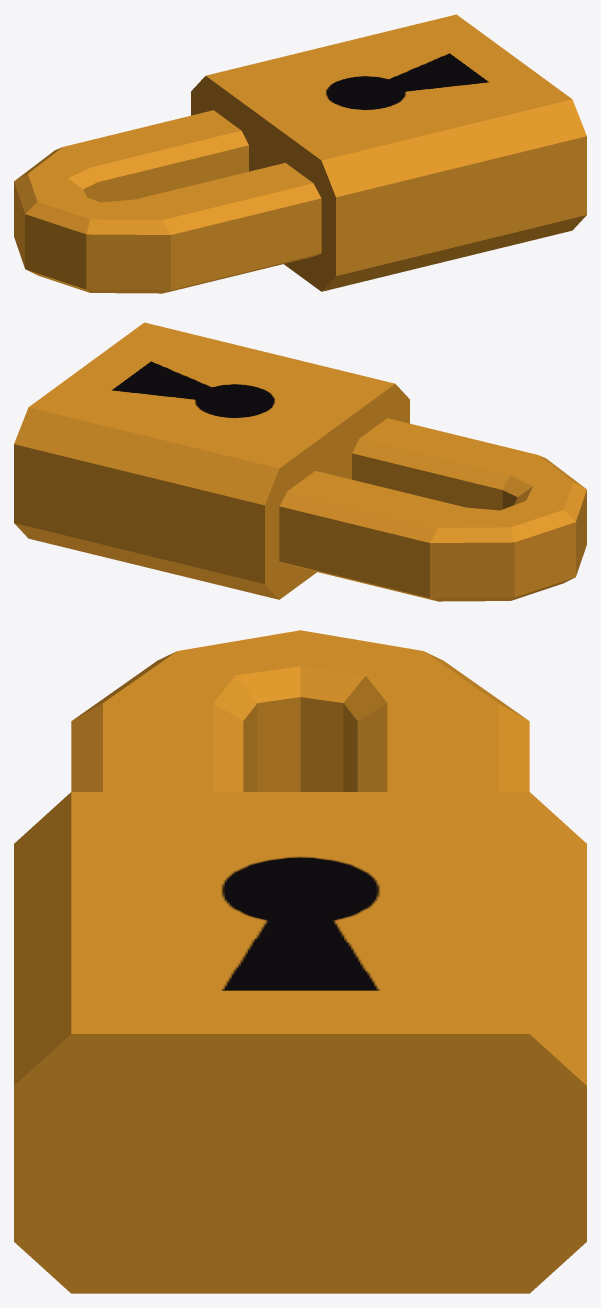
File: lock.fbx
3 views of the same model, one above another, from view 1: azimuth 30°, elevation 25°; view 2: azimuth 150°, elevation 25°; view 3: azimuth 270°, elevation 25° (orthographic). The views are drawn at different scales.
Parts seen in each view (by area): view 1: Cube; view 2: Cube; view 3: Cube.
Part boxes in pixels (x1,y1,x2,y2): Cube: (14, 14, 586, 293); Cube: (14, 322, 586, 601); Cube: (14, 630, 586, 1293).
Bounding box in the file's own units: 390 × 100 × 200.
